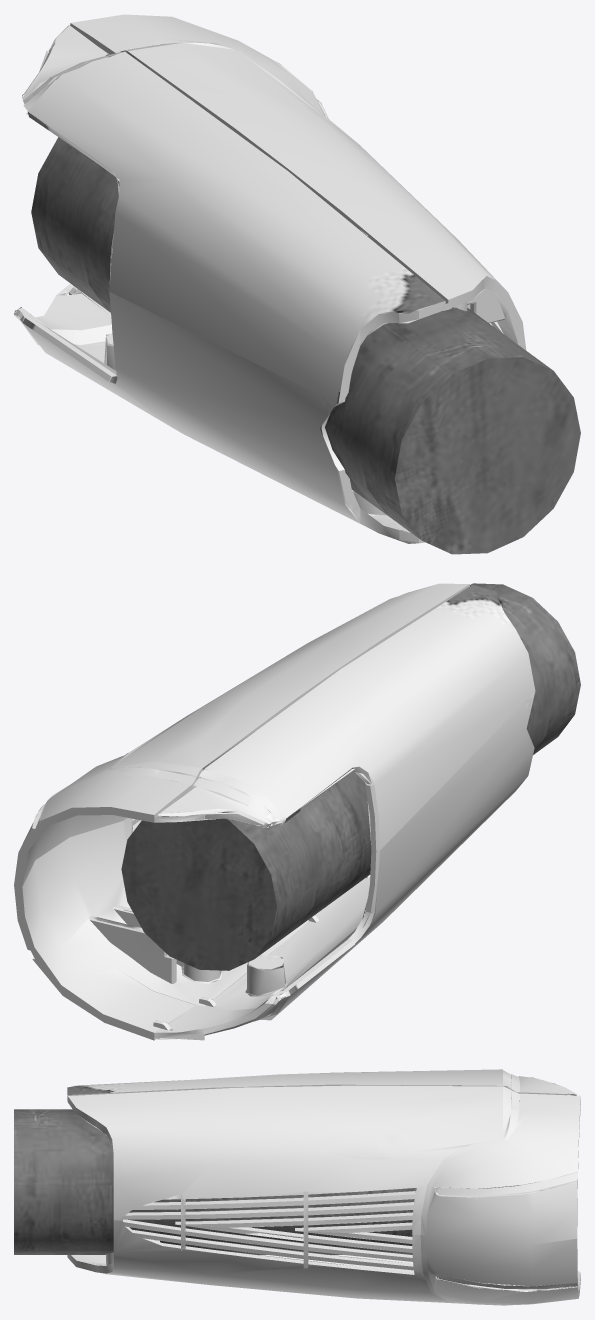
File: icub_l_shank.dae
The picture shows the model from 3 angles, top to bottom: view 1: azimuth 30°, elevation 25°; view 2: azimuth 150°, elevation 25°; view 3: azimuth 270°, elevation 25°; orthographic projection. The views are drawn at different scales.
Visible parts, largest first — view 1: l_shank_cyl_mesh; view 2: l_shank_cyl_mesh; view 3: l_shank_cyl_mesh.
Boxes of the visible parts, x1,y1,x2,y2 form: l_shank_cyl_mesh: (14,14,580,554); l_shank_cyl_mesh: (14,583,580,1040); l_shank_cyl_mesh: (14,1069,580,1305).
Bounding box in the file's own units: 0.1035 × 0.2446 × 0.097.
1 material, 1 textured.
